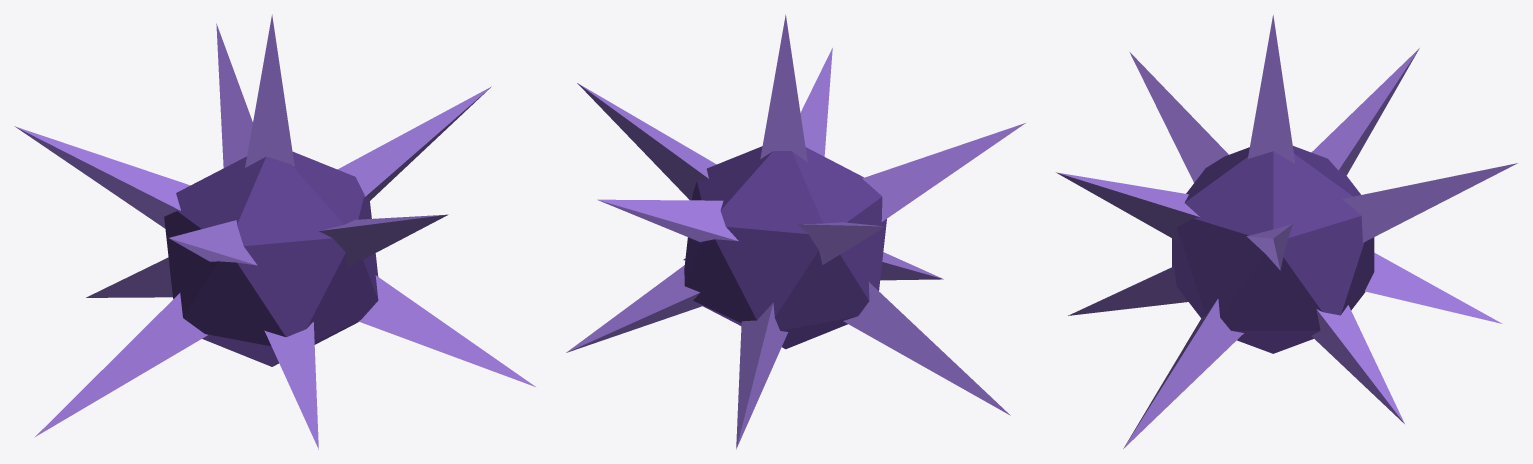
The model's file is sea_urchin.fbx.
3 views of the same model, side by side, from view 1: azimuth 30°, elevation 25°; view 2: azimuth 150°, elevation 25°; view 3: azimuth 270°, elevation 25° (orthographic). The views are drawn at different scales.
Visible parts, largest first — view 1: sea_urchin; view 2: sea_urchin; view 3: sea_urchin.
Part boxes in pixels (x1,y1,x2,y2): sea_urchin: (14,14,535,449); sea_urchin: (566,14,1025,449); sea_urchin: (1056,15,1517,448).
Bounding box in the file's own units: 343 × 261 × 312.
Materials: 1 (1 with a texture image).
